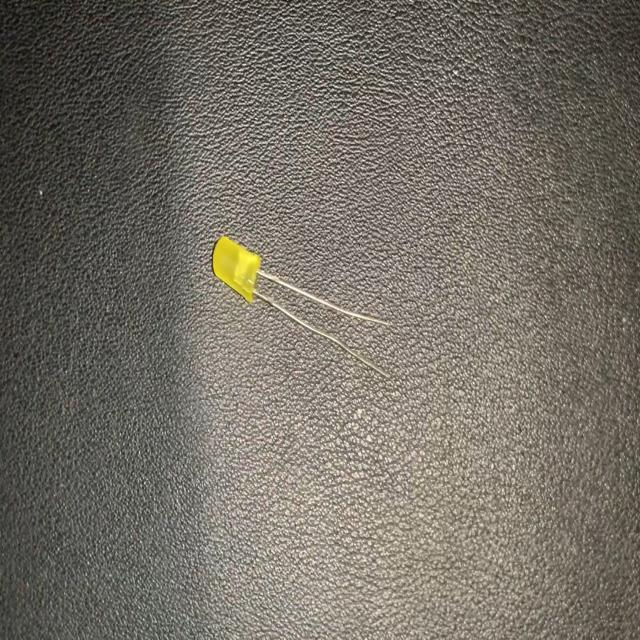LED: (207, 230, 393, 389)
